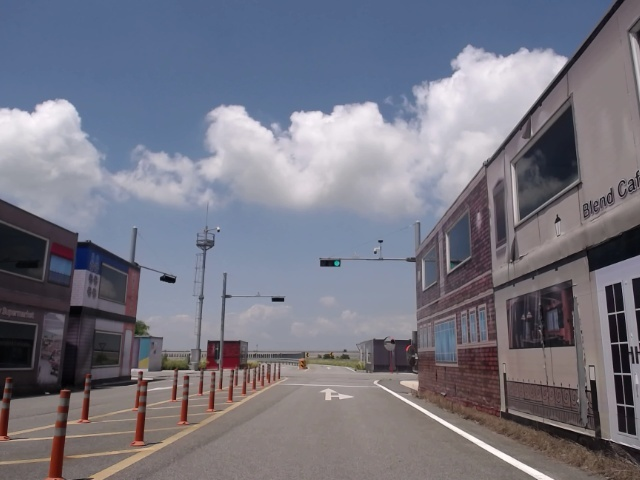green_3: (320, 260, 341, 267)
